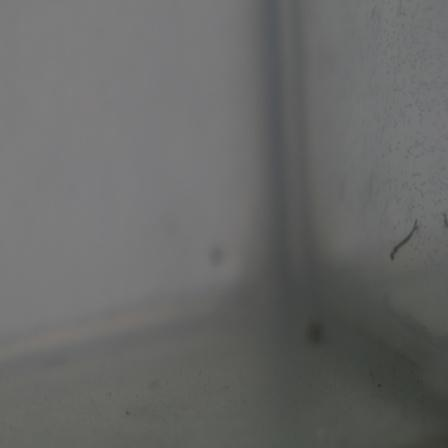Jentik-Nyamuk: (386, 219, 420, 265)
